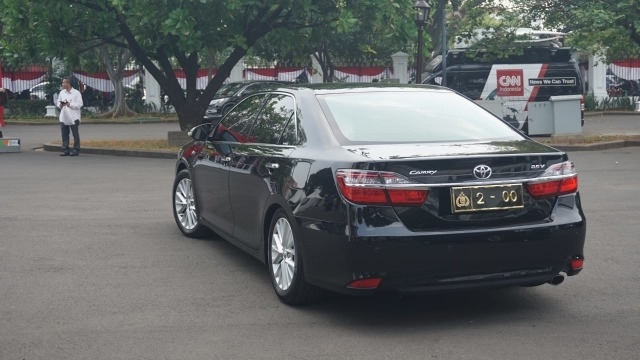plate: (453, 185, 521, 211)
